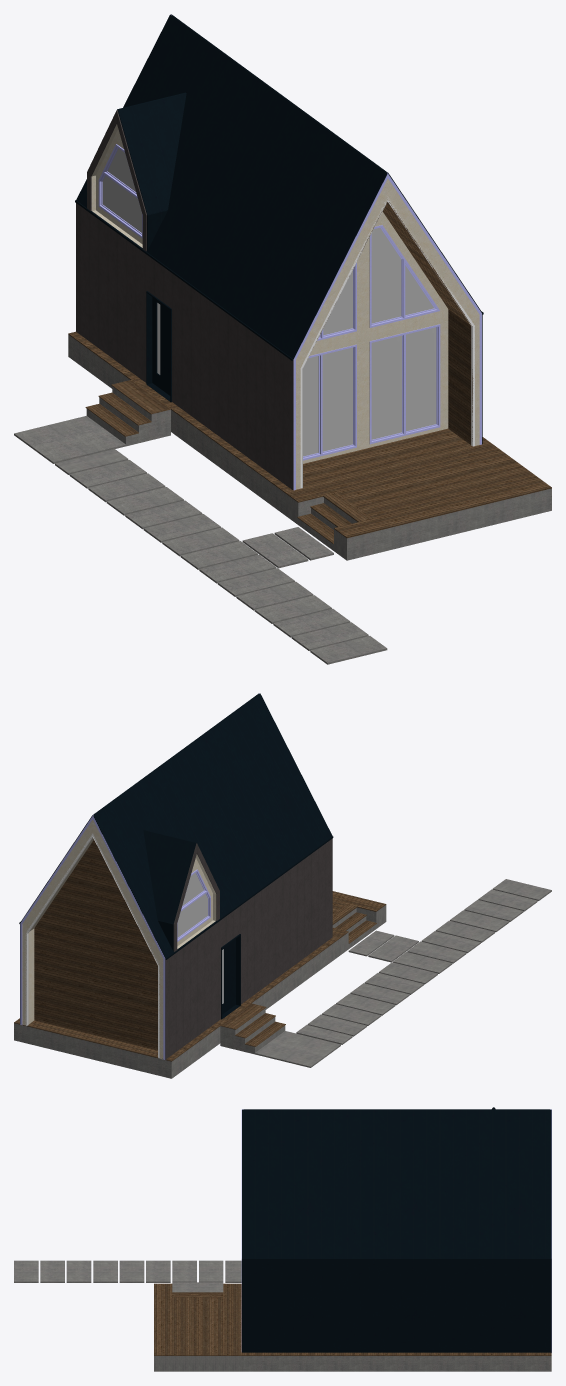
The model's file is a-frame.glb.
3 views of the same model, one above another, from view 1: azimuth 30°, elevation 25°; view 2: azimuth 150°, elevation 25°; view 3: azimuth 270°, elevation 25° (orthographic). The views are drawn at different scales.
Visible parts, largest first — view 1: mesh-c1a60945-a942-4a1f-b75b-e4d26cdffdb4, mesh-a8059f16-2a8e-4866-afed-d0dcc80c254d, mesh-a4e5b8e8-e5c0-4c75-bf09-c27217e08cac, mesh-ac5f60ba-fc37-44f9-8cc8-e198c28d4504, mesh-a7b50ca3-3f8d-4c91-ba4c-f1f92df0fed1, mesh-adb5f684-2aa0-47f9-8d12-d974bcd8406f, mesh-ab33f8a6-5d61-44af-b4d6-6b381544cee0, mesh-a7ebe5f1-9e49-4a77-bdf5-d14ae3fc3bf7, mesh-a8f7eec6-25d8-4315-ba1b-121c2cf11a4c, mesh-a5f2879e-b063-49e1-89d5-ccb7dcf43f82, mesh-ab599e8b-f2c0-4f32-bf1b-02224369e8a3, mesh-a7712a18-dc63-422d-ab40-c820604ce07f (+33 smaller); view 2: mesh-c1a60945-a942-4a1f-b75b-e4d26cdffdb4, mesh-ab3ce3db-f07e-499d-b493-1f32c6cd6532, mesh-a8059f16-2a8e-4866-afed-d0dcc80c254d, mesh-a8f7eec6-25d8-4315-ba1b-121c2cf11a4c, mesh-a6292ffc-7948-4a18-80b2-44d70af6e297, mesh-ac5f60ba-fc37-44f9-8cc8-e198c28d4504, mesh-adb5f684-2aa0-47f9-8d12-d974bcd8406f, mesh-ee4afd34-7e9e-4a83-bf41-5974bc8204b5, mesh-a7b50ca3-3f8d-4c91-ba4c-f1f92df0fed1, mesh-a3a83f35-eec6-4d68-b75a-410e3bccc9d8, mesh-f261cba1-a3ba-4271-9892-8f11fa099685, mesh-a547343d-a00d-4e92-8ca2-f5950a263caf (+23 smaller); view 3: mesh-cd0411ab-1352-4128-9ff5-0303444fa86c, mesh-a271ee6b-2825-4f2e-b286-3f8a018e11b6, mesh-a4e5b8e8-e5c0-4c75-bf09-c27217e08cac, mesh-a8f7eec6-25d8-4315-ba1b-121c2cf11a4c, mesh-ab33f8a6-5d61-44af-b4d6-6b381544cee0, mesh-adb5f684-2aa0-47f9-8d12-d974bcd8406f, mesh-aa759f4b-9b45-4a41-bca4-0fee1f6a3eb5, mesh-abe13559-0933-404e-99bc-d90108ef45e7, mesh-ae6876af-c176-4930-ac51-59e36d87ad6d, mesh-af86a79e-542c-4fc3-b122-46670eeea641, mesh-a6a7492b-5944-4499-9e4f-1b08f663460a, mesh-a5487d78-dfcd-4632-924f-49e4a79f7ef1 (+5 smaller).
Boxes of the visible parts, bbox=[...] form: mesh-c1a60945-a942-4a1f-b75b-e4d26cdffdb4: bbox=[76, 14, 387, 358]; mesh-a8059f16-2a8e-4866-afed-d0dcc80c254d: bbox=[76, 110, 293, 490]; mesh-a4e5b8e8-e5c0-4c75-bf09-c27217e08cac: bbox=[285, 442, 551, 538]; mesh-ac5f60ba-fc37-44f9-8cc8-e198c28d4504: bbox=[91, 124, 479, 369]; mesh-a7b50ca3-3f8d-4c91-ba4c-f1f92df0fed1: bbox=[296, 309, 479, 489]; mesh-adb5f684-2aa0-47f9-8d12-d974bcd8406f: bbox=[68, 331, 489, 492]; mesh-ab33f8a6-5d61-44af-b4d6-6b381544cee0: bbox=[285, 488, 551, 560]; mesh-a7ebe5f1-9e49-4a77-bdf5-d14ae3fc3bf7: bbox=[117, 93, 186, 214]; mesh-a8f7eec6-25d8-4315-ba1b-121c2cf11a4c: bbox=[68, 334, 285, 515]; mesh-a5f2879e-b063-49e1-89d5-ccb7dcf43f82: bbox=[371, 335, 401, 439]; mesh-ab599e8b-f2c0-4f32-bf1b-02224369e8a3: bbox=[406, 327, 436, 431]; mesh-a7712a18-dc63-422d-ab40-c820604ce07f: bbox=[322, 347, 352, 451]; mesh-c1a60945-a942-4a1f-b75b-e4d26cdffdb4: bbox=[93, 693, 332, 958]; mesh-ab3ce3db-f07e-499d-b493-1f32c6cd6532: bbox=[34, 840, 157, 1050]; mesh-a8059f16-2a8e-4866-afed-d0dcc80c254d: bbox=[165, 838, 332, 1059]; mesh-a8f7eec6-25d8-4315-ba1b-121c2cf11a4c: bbox=[14, 940, 338, 1078]; mesh-a6292ffc-7948-4a18-80b2-44d70af6e297: bbox=[143, 830, 196, 923]; mesh-ac5f60ba-fc37-44f9-8cc8-e198c28d4504: bbox=[22, 819, 216, 966]; mesh-adb5f684-2aa0-47f9-8d12-d974bcd8406f: bbox=[14, 937, 338, 1061]; mesh-ee4afd34-7e9e-4a83-bf41-5974bc8204b5: bbox=[264, 1033, 340, 1067]; mesh-a7b50ca3-3f8d-4c91-ba4c-f1f92df0fed1: bbox=[22, 928, 163, 1059]; mesh-a3a83f35-eec6-4d68-b75a-410e3bccc9d8: bbox=[220, 1008, 294, 1056]; mesh-f261cba1-a3ba-4271-9892-8f11fa099685: bbox=[20, 815, 165, 1059]; mesh-a547343d-a00d-4e92-8ca2-f5950a263caf: bbox=[25, 833, 159, 1058]; mesh-cd0411ab-1352-4128-9ff5-0303444fa86c: bbox=[242, 1110, 551, 1258]; mesh-a271ee6b-2825-4f2e-b286-3f8a018e11b6: bbox=[242, 1260, 551, 1352]; mesh-a4e5b8e8-e5c0-4c75-bf09-c27217e08cac: bbox=[154, 1283, 241, 1355]; mesh-a8f7eec6-25d8-4315-ba1b-121c2cf11a4c: bbox=[242, 1356, 551, 1371]; mesh-ab33f8a6-5d61-44af-b4d6-6b381544cee0: bbox=[154, 1356, 241, 1371]; mesh-adb5f684-2aa0-47f9-8d12-d974bcd8406f: bbox=[242, 1352, 551, 1355]; mesh-aa759f4b-9b45-4a41-bca4-0fee1f6a3eb5: bbox=[242, 1258, 551, 1260]; mesh-abe13559-0933-404e-99bc-d90108ef45e7: bbox=[66, 1260, 91, 1282]; mesh-ae6876af-c176-4930-ac51-59e36d87ad6d: bbox=[119, 1260, 144, 1282]; mesh-af86a79e-542c-4fc3-b122-46670eeea641: bbox=[14, 1260, 38, 1282]; mesh-a6a7492b-5944-4499-9e4f-1b08f663460a: bbox=[40, 1260, 64, 1282]; mesh-a5487d78-dfcd-4632-924f-49e4a79f7ef1: bbox=[93, 1260, 117, 1282].
Bounding box in the file's own units: 7.55 × 7.18 × 15.28.
Materials: 9 (8 with a texture image).
